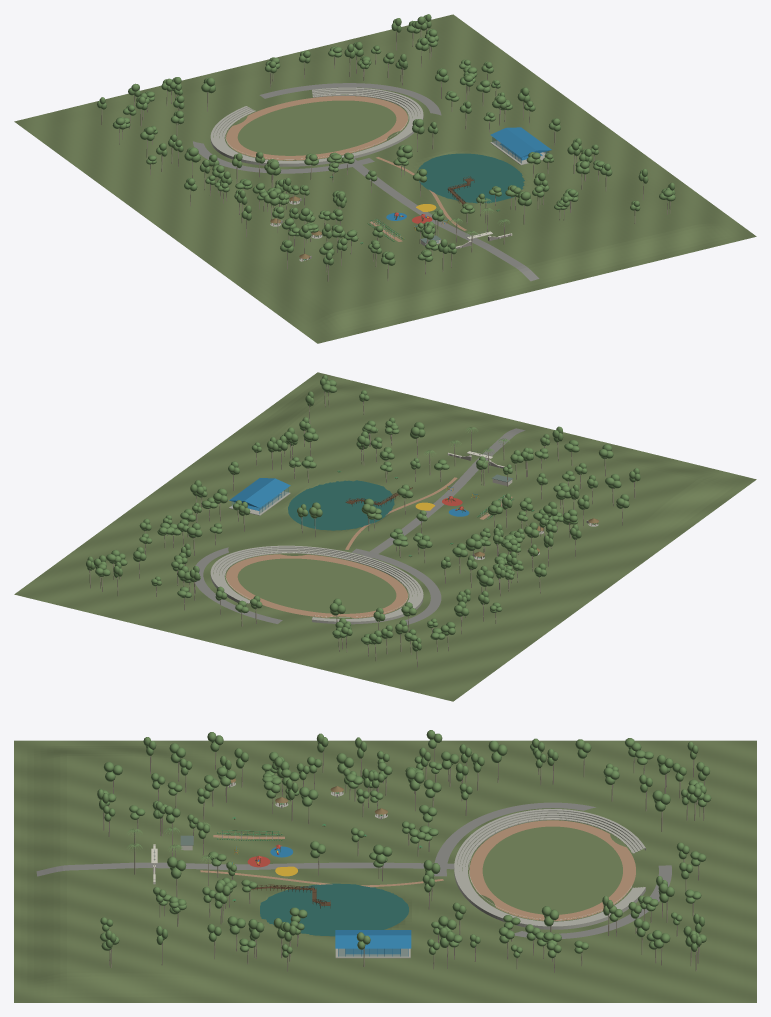
The model's file is parque-rodo.glb.
The picture shows the model from 3 angles, top to bottom: view 1: azimuth 30°, elevation 25°; view 2: azimuth 150°, elevation 25°; view 3: azimuth 270°, elevation 25°; orthographic projection. The views are drawn at different scales.
Parts seen in each view (by area): view 1: Suelo continuo del parque, Campo del ruedo, Lago artificial, Pista de tierra oval, Circuito del ruedo, Calle de acceso descendente, Cubierta azul liviana, Tribuna curva de hormigon 5, Tribuna curva de hormigon 4, Tribuna curva de hormigon 2, Tribuna curva de hormigon 1, Tribuna curva de hormigon 3; view 2: Suelo continuo del parque, Campo del ruedo, Lago artificial, Pista de tierra oval, Circuito del ruedo, Calle de acceso descendente, Cubierta azul liviana, Tribuna curva de hormigon 5, Tribuna curva de hormigon 4, Tribuna curva de hormigon 3, Tribuna curva de hormigon 2, Tribuna curva de hormigon 1; view 3: Suelo continuo del parque, Campo del ruedo, Lago artificial, Pista de tierra oval, Circuito del ruedo, Calle de acceso descendente, Cubierta azul liviana, Tribuna curva de hormigon 5, Tribuna curva de hormigon 4, Tribuna curva de hormigon 3, Tribuna curva de hormigon 2, Tribuna curva de hormigon 1 (+3 smaller).
Part boxes in pixels (x1,y1,x2,y2): Suelo continuo del parque: (14, 14, 756, 343); Campo del ruedo: (237, 100, 396, 155); Lago artificial: (418, 153, 524, 203); Pista de tierra oval: (226, 96, 407, 160); Circuito del ruedo: (193, 83, 441, 173); Calle de acceso descendente: (353, 158, 539, 281); Cubierta azul liviana: (490, 127, 551, 157); Tribuna curva de hormigon 5: (210, 87, 423, 163); Tribuna curva de hormigon 4: (213, 89, 420, 162); Tribuna curva de hormigon 2: (219, 92, 414, 161); Tribuna curva de hormigon 1: (222, 94, 411, 161); Tribuna curva de hormigon 3: (216, 91, 417, 162); Suelo continuo del parque: (14, 372, 756, 701); Campo del ruedo: (237, 558, 396, 613); Lago artificial: (288, 480, 394, 530); Pista de tierra oval: (226, 554, 407, 618); Circuito del ruedo: (195, 547, 441, 624); Calle de acceso descendente: (363, 428, 525, 557); Cubierta azul liviana: (229, 478, 290, 507); Tribuna curva de hormigon 5: (210, 545, 423, 621); Tribuna curva de hormigon 4: (213, 547, 420, 620); Tribuna curva de hormigon 3: (216, 549, 417, 620); Tribuna curva de hormigon 2: (219, 550, 414, 619); Tribuna curva de hormigon 1: (222, 552, 411, 619); Suelo continuo del parque: (14, 740, 756, 1002); Campo del ruedo: (482, 826, 622, 914); Lago artificial: (260, 883, 408, 936); Pista de tierra oval: (469, 820, 635, 920); Circuito del ruedo: (434, 802, 671, 938); Calle de acceso descendente: (36, 862, 454, 876); Cubierta azul liviana: (335, 930, 411, 948); Tribuna curva de hormigon 5: (454, 809, 645, 926); Tribuna curva de hormigon 4: (457, 811, 642, 924); Tribuna curva de hormigon 3: (459, 813, 640, 923); Tribuna curva de hormigon 2: (462, 815, 637, 923); Tribuna curva de hormigon 1: (465, 818, 634, 922).
Bounding box in the file's own units: 380 × 33.54 × 455.
